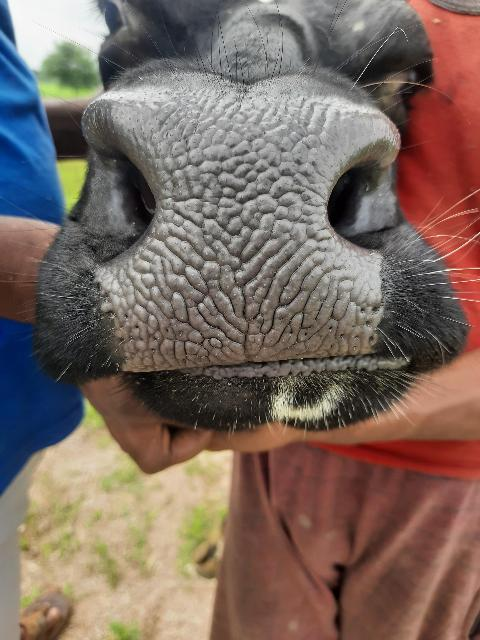Muzzle: (113, 100, 359, 364)
